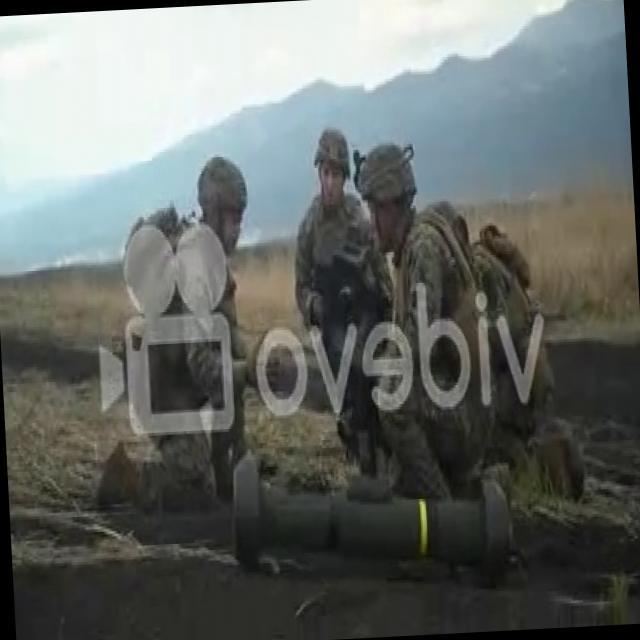rocket: (230, 444, 518, 586)
